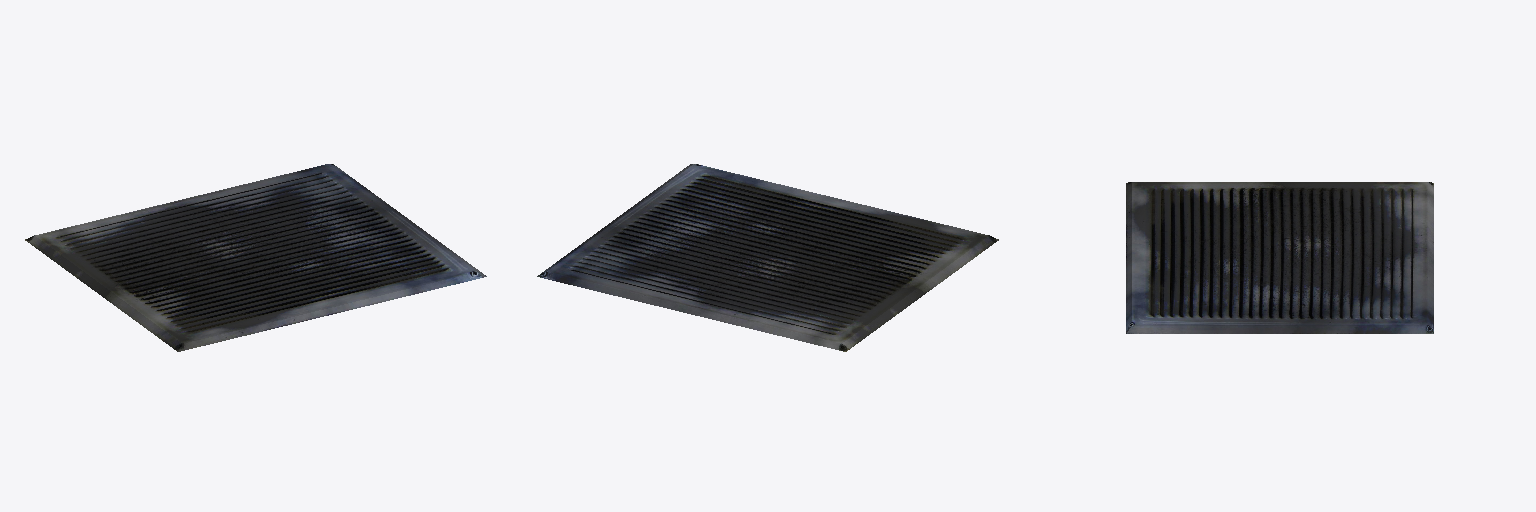
3 renders of one model, left to right at view 1: azimuth 30°, elevation 25°; view 2: azimuth 150°, elevation 25°; view 3: azimuth 270°, elevation 25°, orthographic.
Visible parts, largest first — view 1: vent_2; view 2: vent_2; view 3: vent_2.
Part boxes in pixels (x1,y1,x2,y2): vent_2: (25,164,486,351); vent_2: (537,164,998,351); vent_2: (1126,182,1433,333).
Size of the model in its own units: 0.288 by 0.0041 by 0.2476.
Materials: 1 (1 with a texture image).